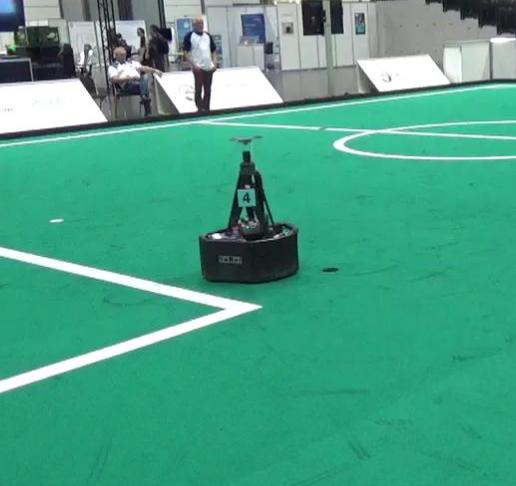robot: (190, 128, 313, 287)
